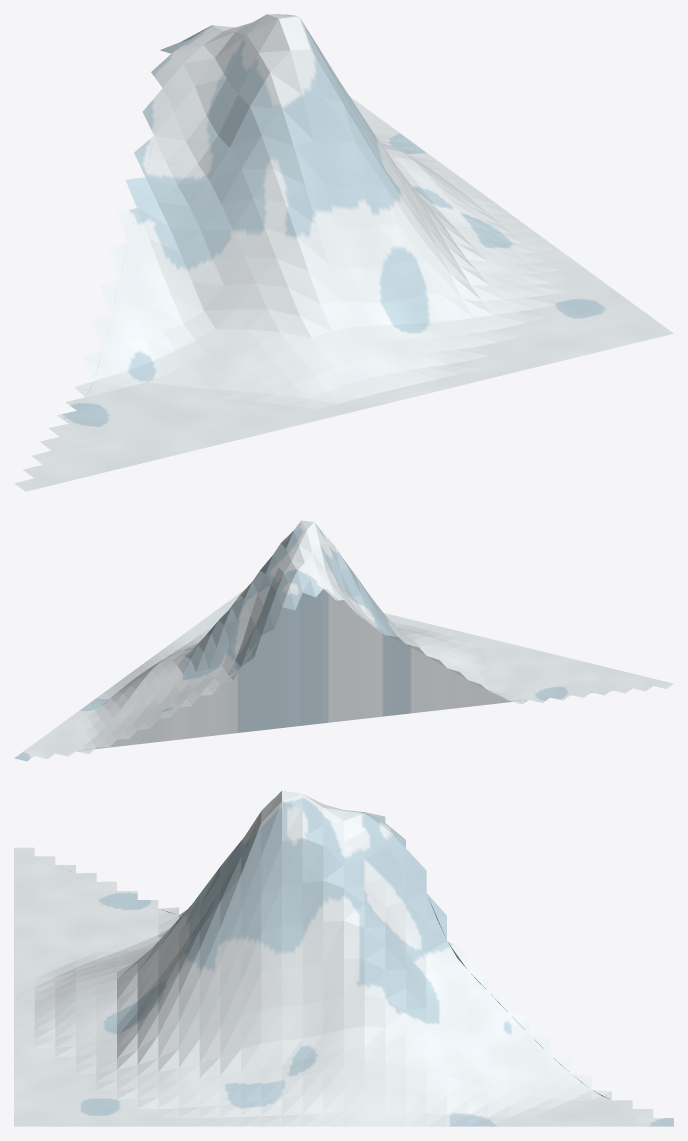
File: Snow_Mountains_02_NE.obj
3 views of the same model, one above another, from view 1: azimuth 30°, elevation 25°; view 2: azimuth 150°, elevation 25°; view 3: azimuth 270°, elevation 25° (orthographic). The views are drawn at different scales.
Bounding box in the file's own units: 10 × 3.87 × 10.
Materials: 1 (1 with a texture image).
